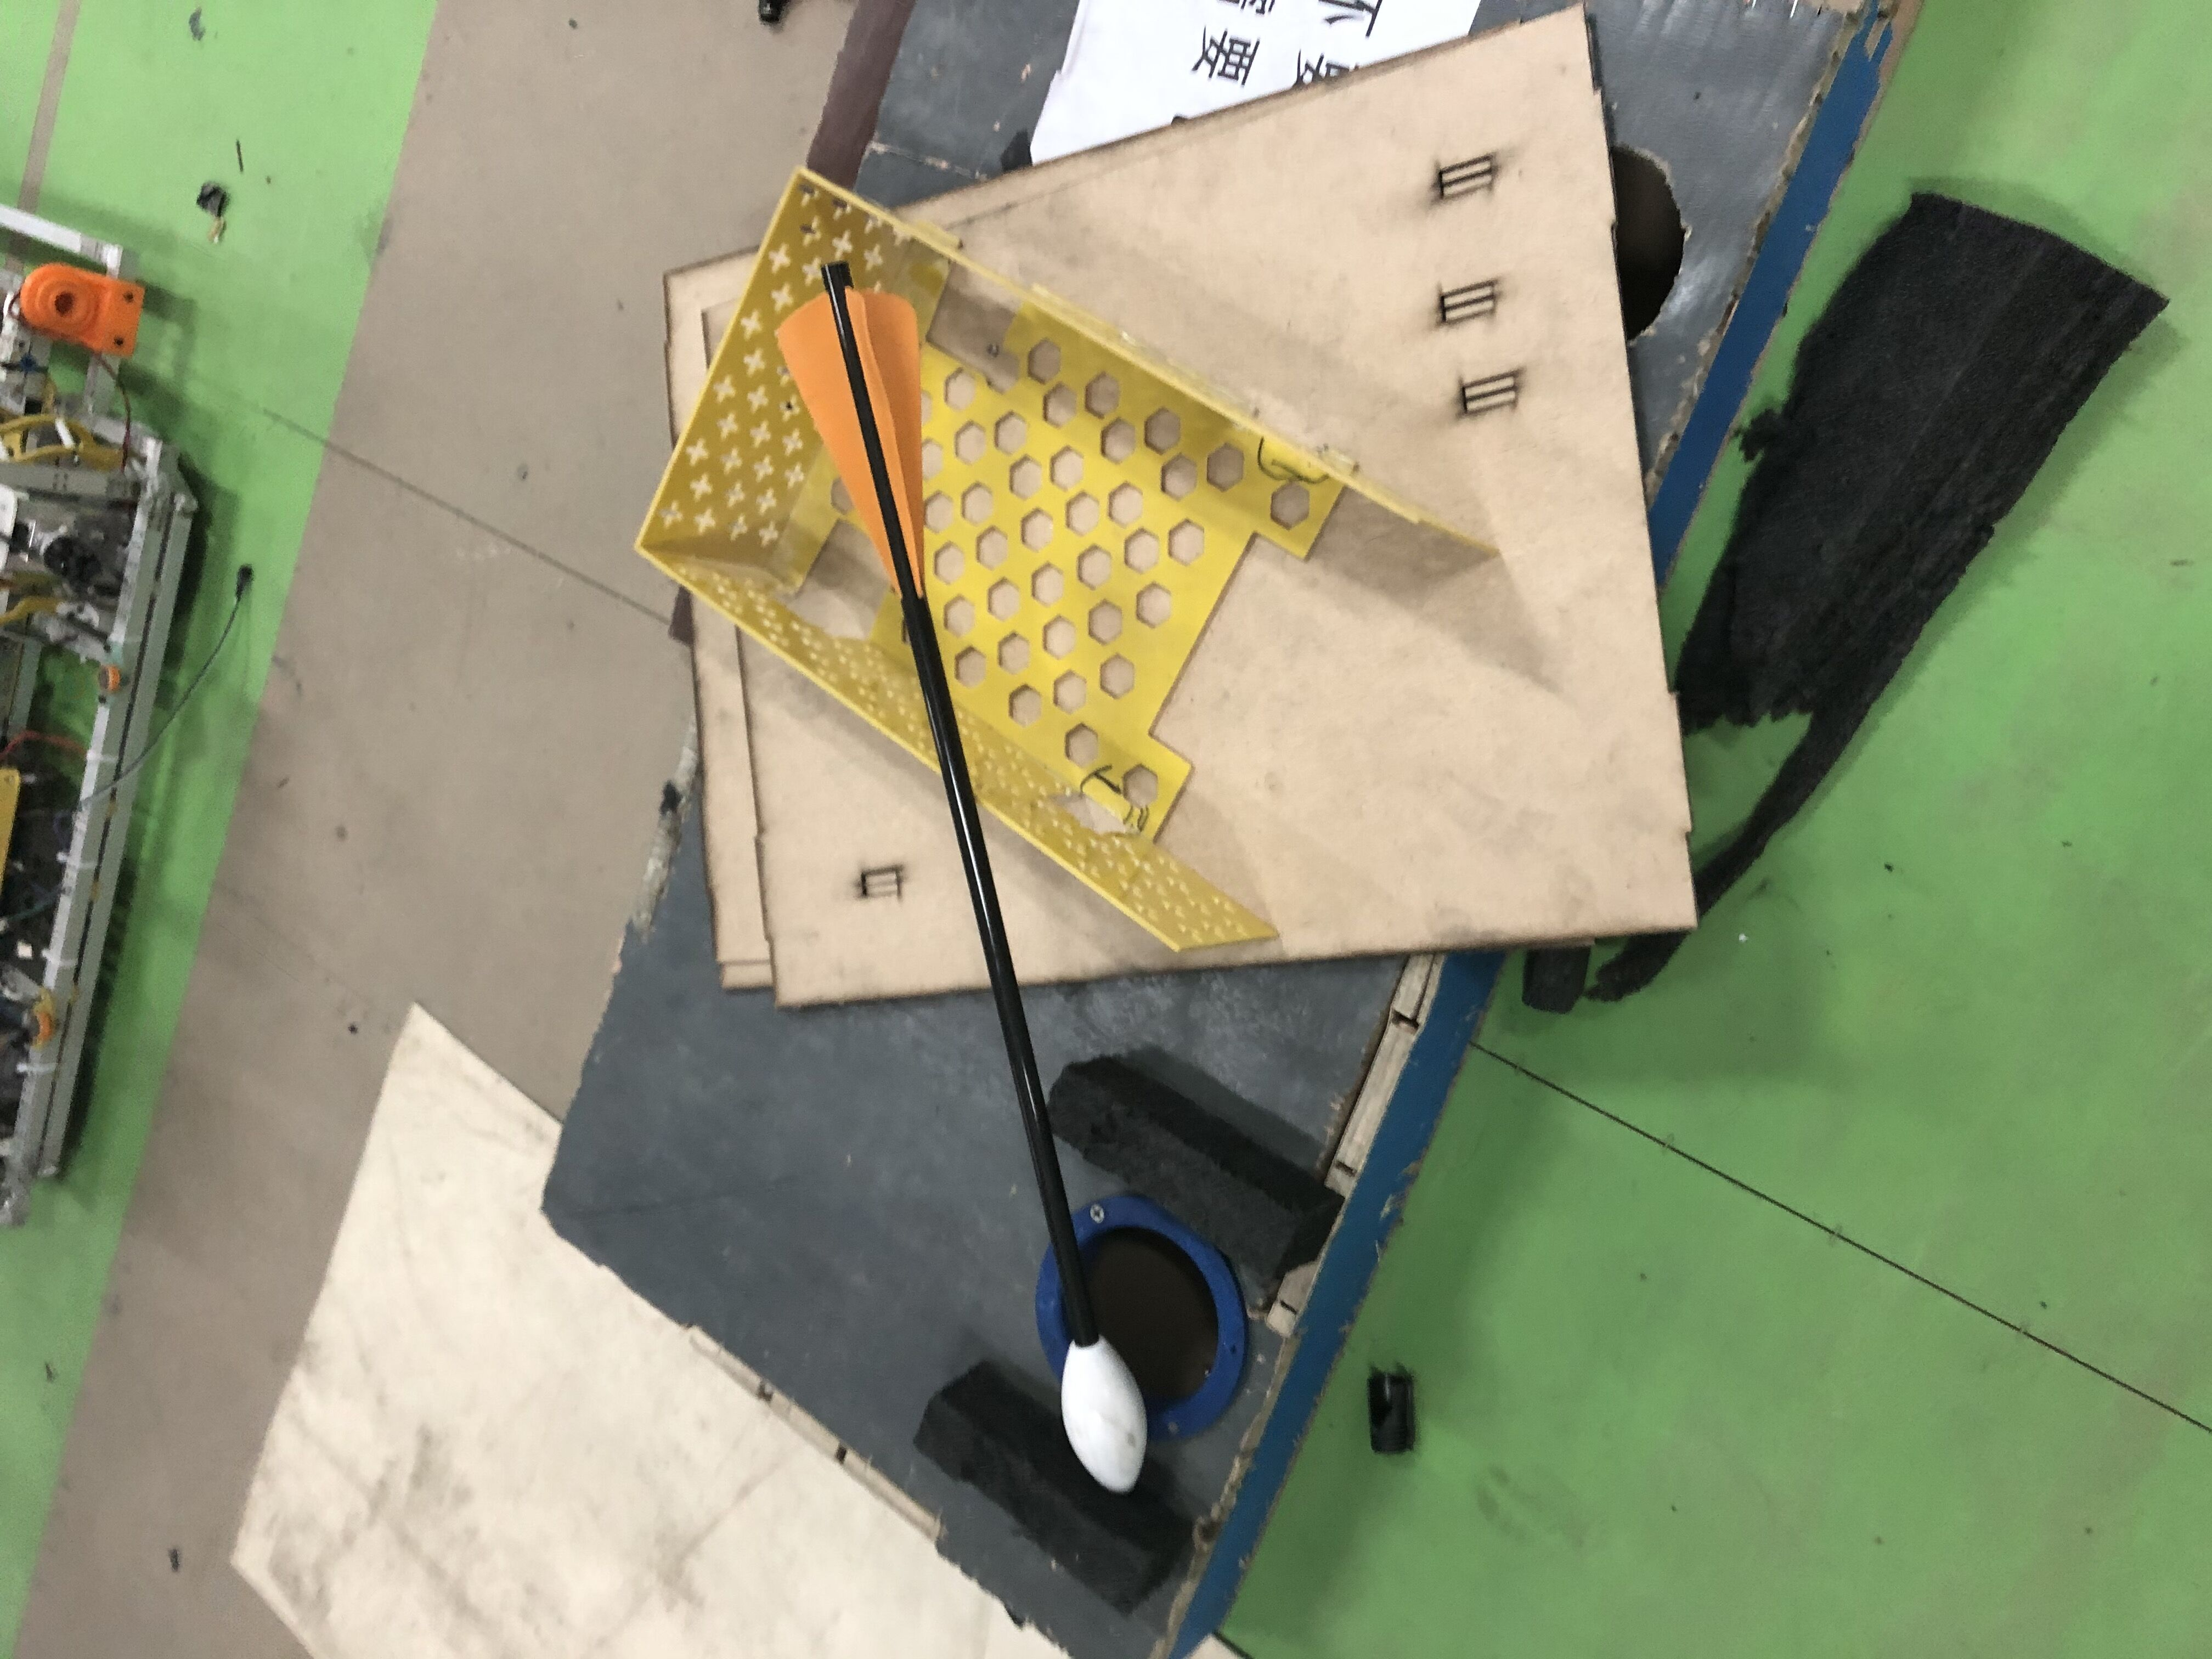arrow: (770, 256, 1153, 1497)
arrowFront: (1054, 1338, 1144, 1490)
